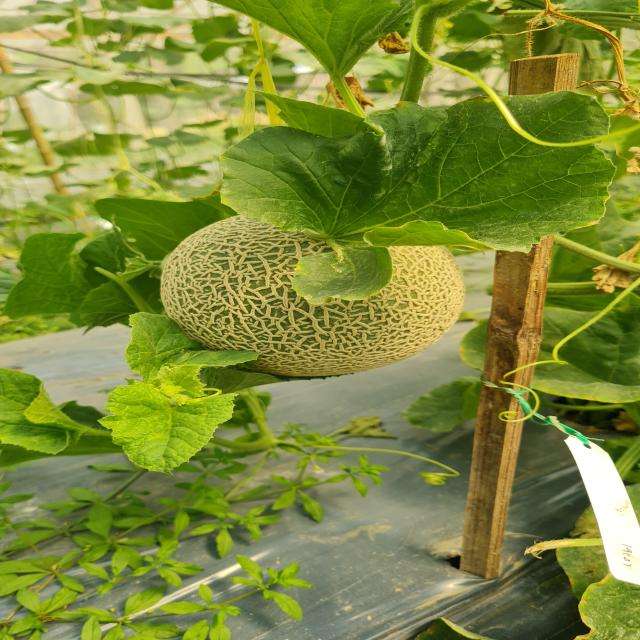melon: (160, 216, 464, 376)
